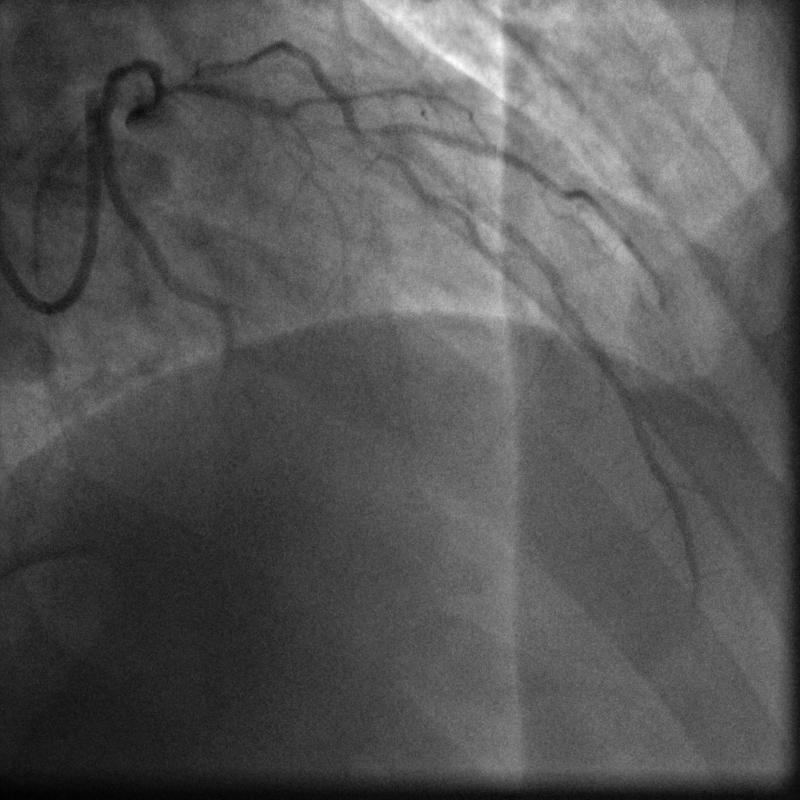Stenosis: (289, 105, 395, 139)
